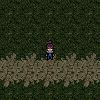Victim: (43, 40, 57, 61)
